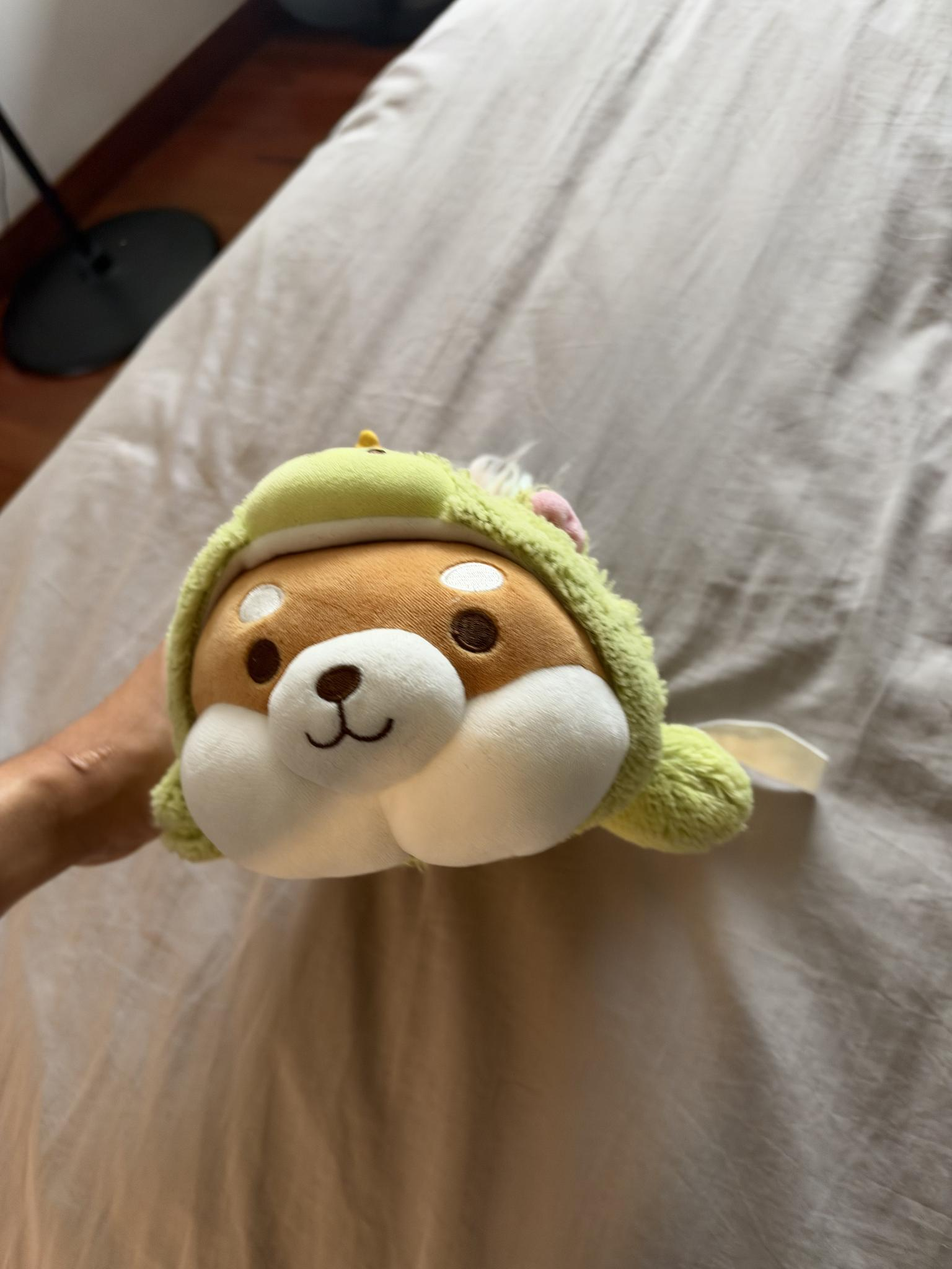peluche_martin: (147, 422, 758, 883)
